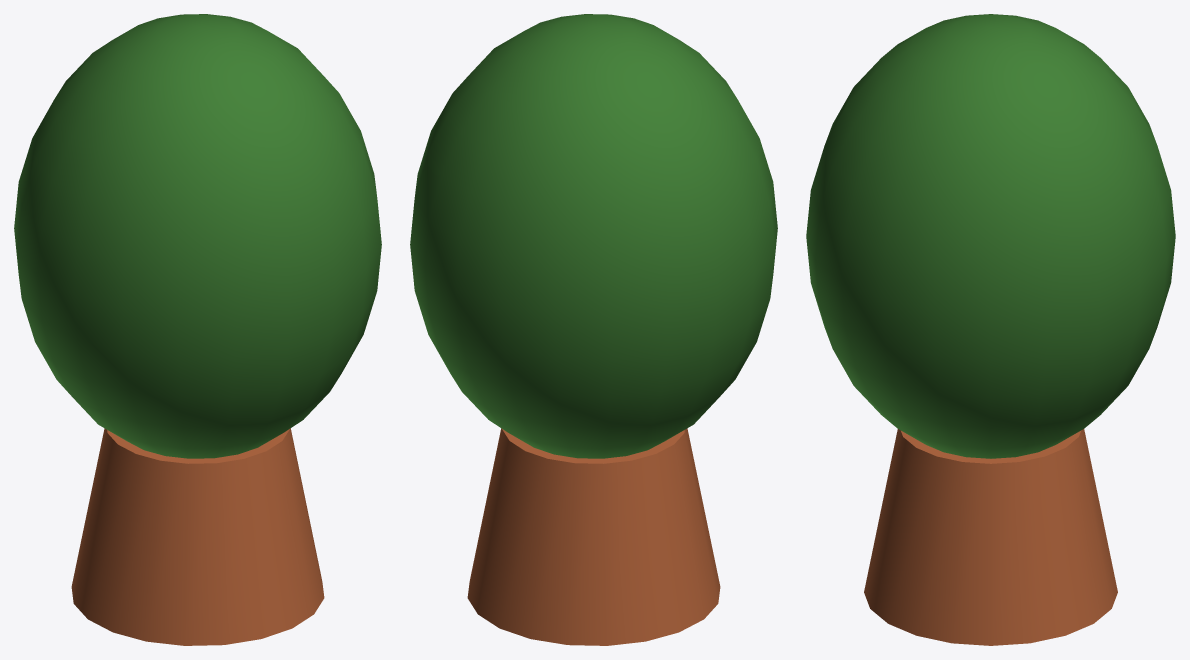
Rendered from plant.gltf.
3 views of the same model, side by side, from view 1: azimuth 30°, elevation 25°; view 2: azimuth 150°, elevation 25°; view 3: azimuth 270°, elevation 25° (orthographic).
Bounding box in the file's own units: 0.64 × 1.08 × 0.64.
